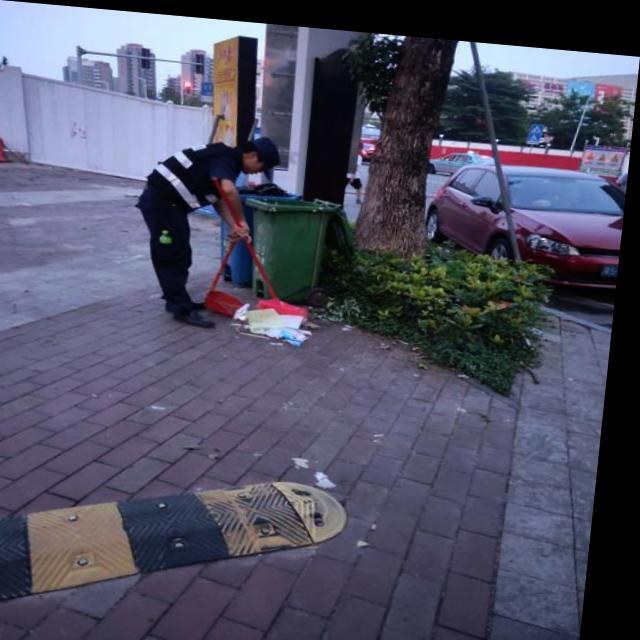garbage: (236, 292, 320, 343)
garbage_bin: (240, 187, 336, 294)
